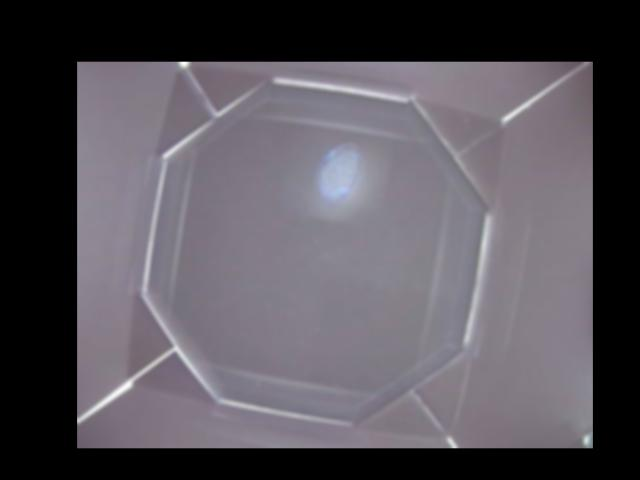Pebble: (318, 141, 361, 202)
